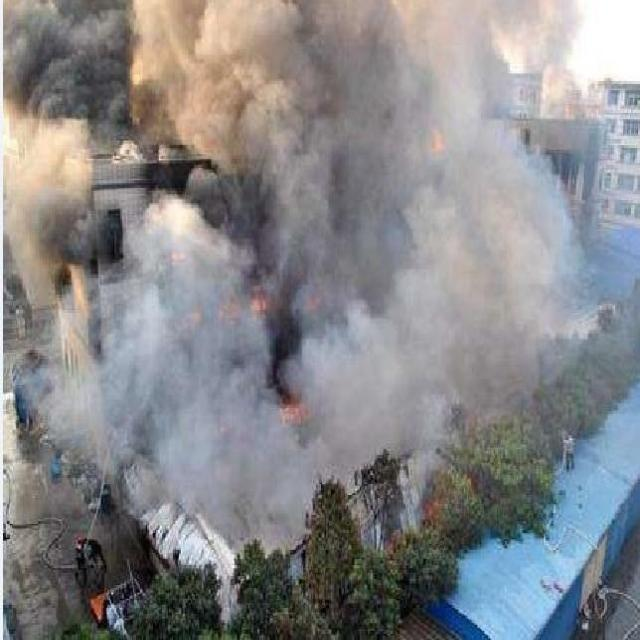Smoke: (2, 1, 602, 558)
